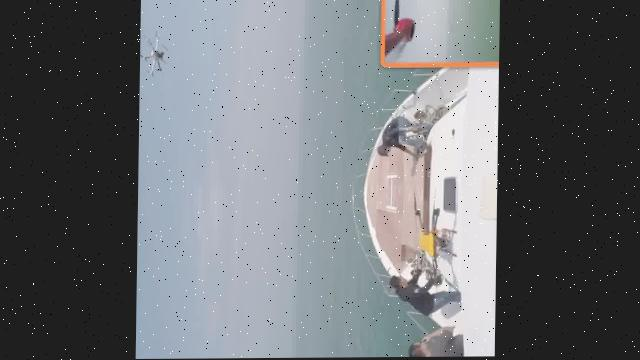drone: (402, 194, 452, 281)
